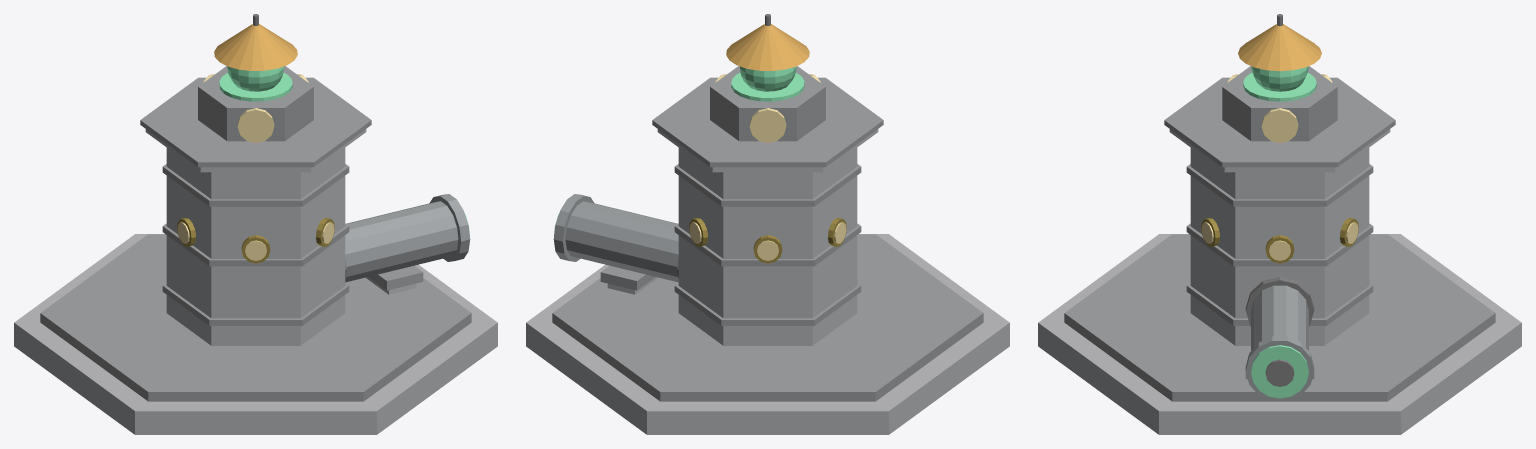
The model's file is beacon_s1_100.glb.
The picture shows the model from 3 angles, left to right: view 1: azimuth 30°, elevation 25°; view 2: azimuth 150°, elevation 25°; view 3: azimuth 270°, elevation 25°; orthographic projection.
Visible parts, largest first — view 1: BC_BaseCap, BC_Shaft1, BC_Base, BC_Platform_Trim, BC_PipeStub_0, BC_Lantern_Room, BC_Dome, BC_Shaft1_Ring_0, BC_Shaft1_Ring_2, BC_Shaft1_Ring_1, BC_Platform_Base, BC_LampHalo (+4 smaller); view 2: BC_BaseCap, BC_Shaft1, BC_Base, BC_Platform_Trim, BC_PipeStub_0, BC_Lantern_Room, BC_Dome, BC_Shaft1_Ring_0, BC_Shaft1_Ring_2, BC_Shaft1_Ring_1, BC_Platform_Base, BC_LampHalo (+4 smaller); view 3: BC_BaseCap, BC_Shaft1, BC_Base, BC_Platform_Trim, BC_Lantern_Room, BC_PipeStub_0, BC_Dome, BC_Flange_0_led, BC_Shaft1_Ring_2, BC_Shaft1_Ring_1, BC_Flange_0_disc, BC_Shaft1_Ring_0 (+6 smaller).
Boxes of the visible parts, left/top/right/bottom form: BC_BaseCap: left=40, top=234, right=471, bottom=401; BC_Shaft1: left=166, top=148, right=345, bottom=345; BC_Base: left=14, top=234, right=497, bottom=434; BC_Platform_Trim: left=140, top=77, right=371, bottom=167; BC_PipeStub_0: left=345, top=201, right=458, bottom=282; BC_Lantern_Room: left=198, top=66, right=313, bottom=141; BC_Dome: left=214, top=24, right=297, bottom=70; BC_Shaft1_Ring_0: left=162, top=283, right=349, bottom=325; BC_Shaft1_Ring_2: left=162, top=164, right=349, bottom=206; BC_Shaft1_Ring_1: left=162, top=223, right=349, bottom=266; BC_Platform_Base: left=145, top=129, right=366, bottom=172; BC_LampHalo: left=219, top=72, right=292, bottom=101; BC_BaseCap: left=552, top=234, right=983, bottom=401; BC_Shaft1: left=678, top=148, right=857, bottom=345; BC_Base: left=526, top=234, right=1009, bottom=434; BC_Platform_Trim: left=652, top=77, right=883, bottom=167; BC_PipeStub_0: left=565, top=201, right=678, bottom=282; BC_Lantern_Room: left=710, top=66, right=825, bottom=141; BC_Dome: left=726, top=24, right=809, bottom=70; BC_Shaft1_Ring_0: left=674, top=283, right=861, bottom=325; BC_Shaft1_Ring_2: left=674, top=164, right=861, bottom=206; BC_Shaft1_Ring_1: left=674, top=223, right=861, bottom=266; BC_Platform_Base: left=657, top=129, right=878, bottom=172; BC_LampHalo: left=731, top=72, right=804, bottom=101; BC_BaseCap: left=1064, top=234, right=1495, bottom=401; BC_Shaft1: left=1190, top=148, right=1369, bottom=345; BC_Base: left=1038, top=234, right=1521, bottom=434; BC_Platform_Trim: left=1164, top=77, right=1395, bottom=167; BC_Lantern_Room: left=1222, top=66, right=1337, bottom=141; BC_PipeStub_0: left=1251, top=285, right=1308, bottom=350; BC_Dome: left=1238, top=24, right=1321, bottom=71; BC_Flange_0_led: left=1251, top=345, right=1308, bottom=398; BC_Shaft1_Ring_2: left=1186, top=164, right=1373, bottom=206; BC_Shaft1_Ring_1: left=1186, top=223, right=1373, bottom=266; BC_Flange_0_disc: left=1245, top=336, right=1314, bottom=401; BC_Shaft1_Ring_0: left=1186, top=283, right=1373, bottom=325.
Bounding box in the file's own units: 1.69 × 1.39 × 1.84.
